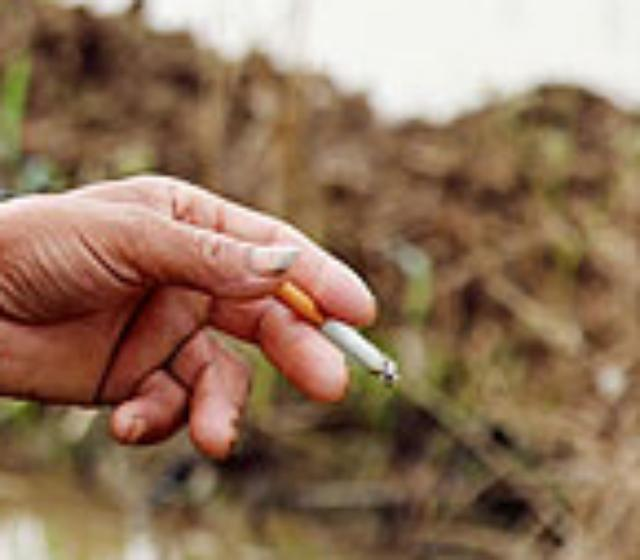Smoking: (274, 279, 404, 383)
